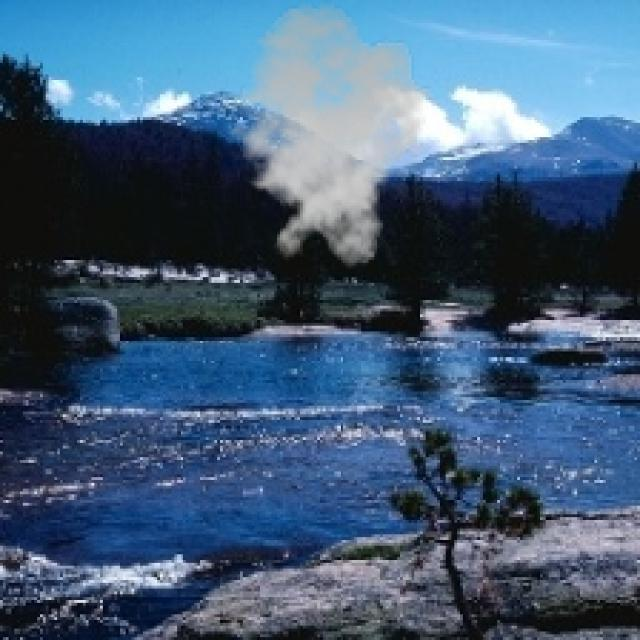Smoke: (217, 2, 437, 268)
